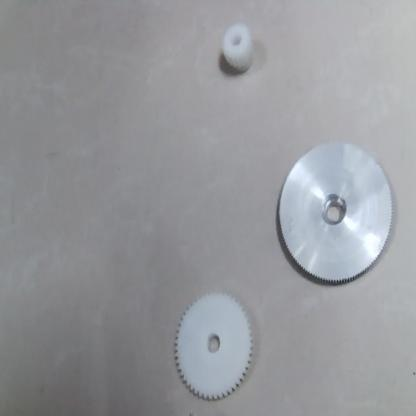FOD: (276, 137, 399, 289), (172, 287, 256, 408), (217, 20, 256, 76)
